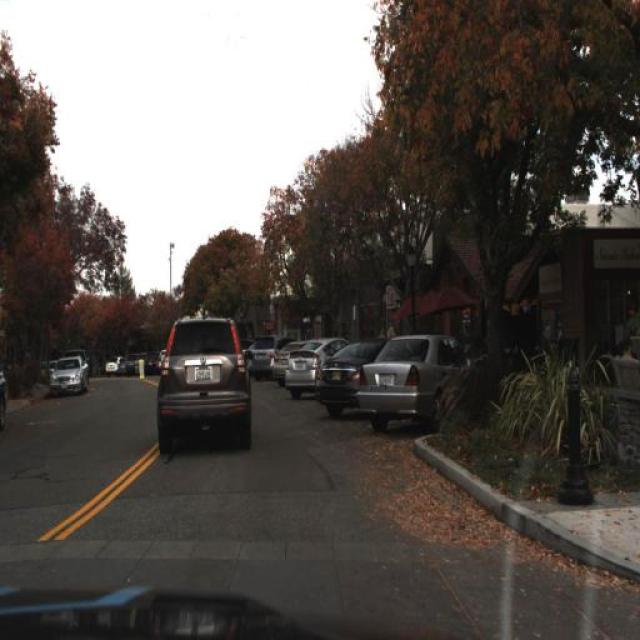car: (152, 308, 254, 452), (356, 330, 472, 430), (316, 344, 376, 416), (284, 320, 338, 384), (50, 357, 88, 397), (246, 320, 276, 370), (246, 317, 276, 363), (272, 338, 296, 388), (105, 352, 121, 372)
